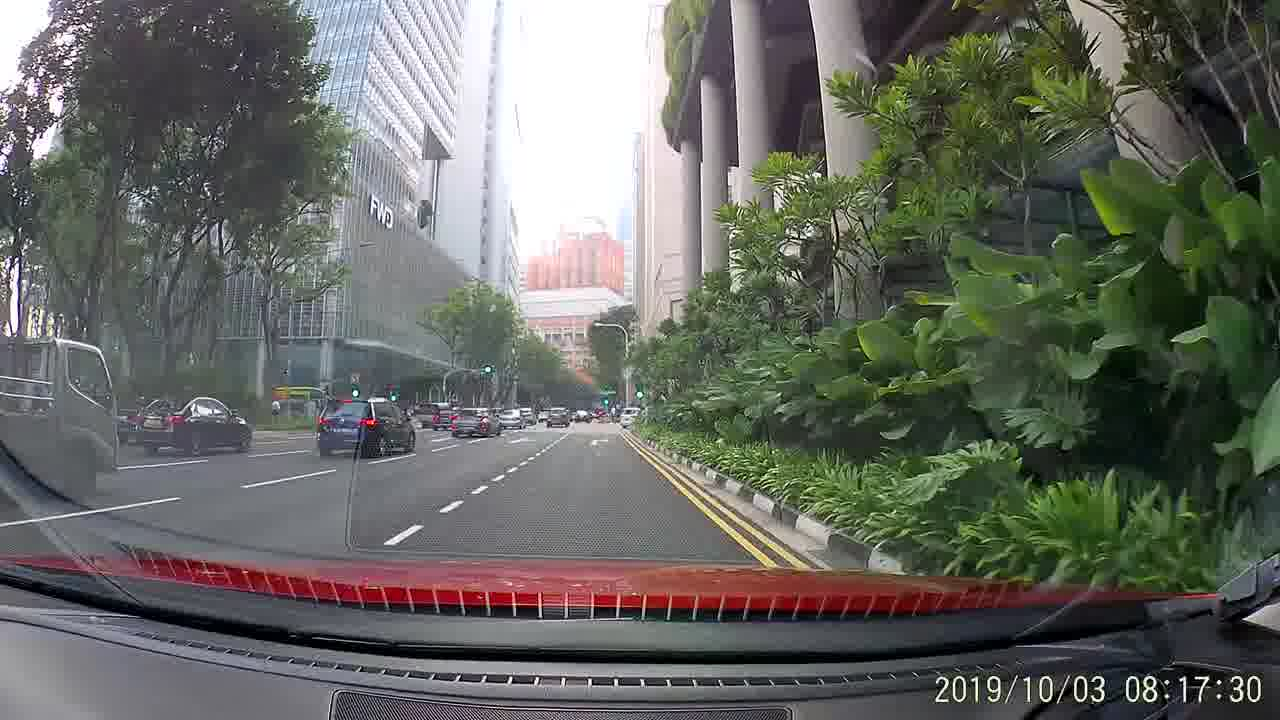car: (124, 396, 252, 459), (314, 394, 419, 458), (453, 406, 500, 438), (433, 403, 463, 431), (494, 410, 524, 432), (542, 406, 571, 428), (619, 405, 640, 429)
